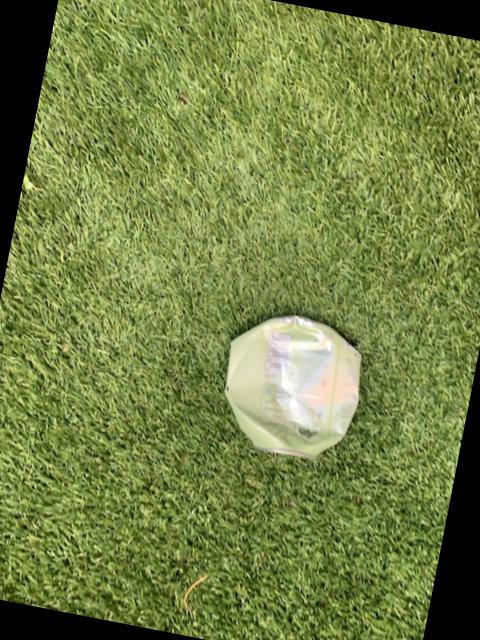metal: (226, 318, 361, 459)
